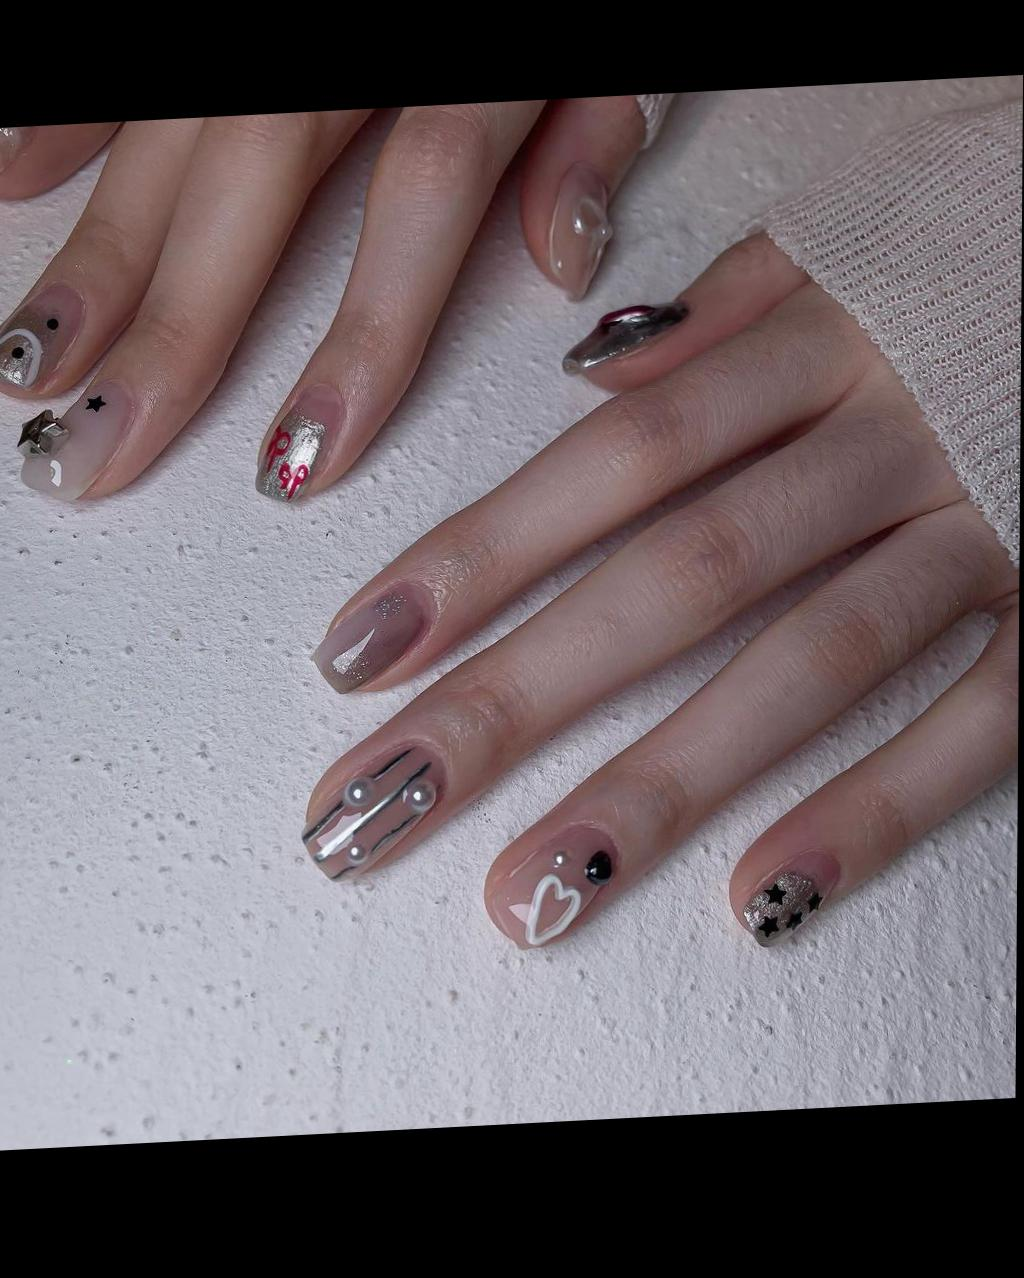nail: (303, 746, 441, 879), (487, 824, 615, 948), (22, 379, 130, 501), (315, 582, 433, 692), (256, 384, 342, 502), (739, 849, 839, 949), (544, 161, 614, 304), (560, 300, 689, 377), (0, 283, 84, 388)
